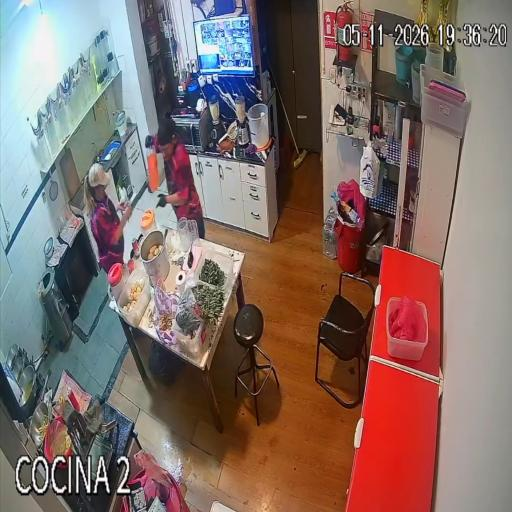Balde: (247, 103, 270, 150)
Envase Ketchup: (66, 388, 79, 411)
Envase Llajua: (59, 396, 65, 404)
Jarra1: (108, 263, 127, 300)
Jarra2: (141, 210, 157, 234)
Microondas: (167, 110, 210, 151)
Persona1: (146, 120, 204, 238)
Persona2: (86, 164, 131, 273)
Taper: (195, 247, 236, 297)
Taper2: (172, 319, 208, 362)
Taper3: (117, 269, 150, 326)
Taper4: (386, 296, 428, 360)
olla1: (140, 229, 169, 286)
